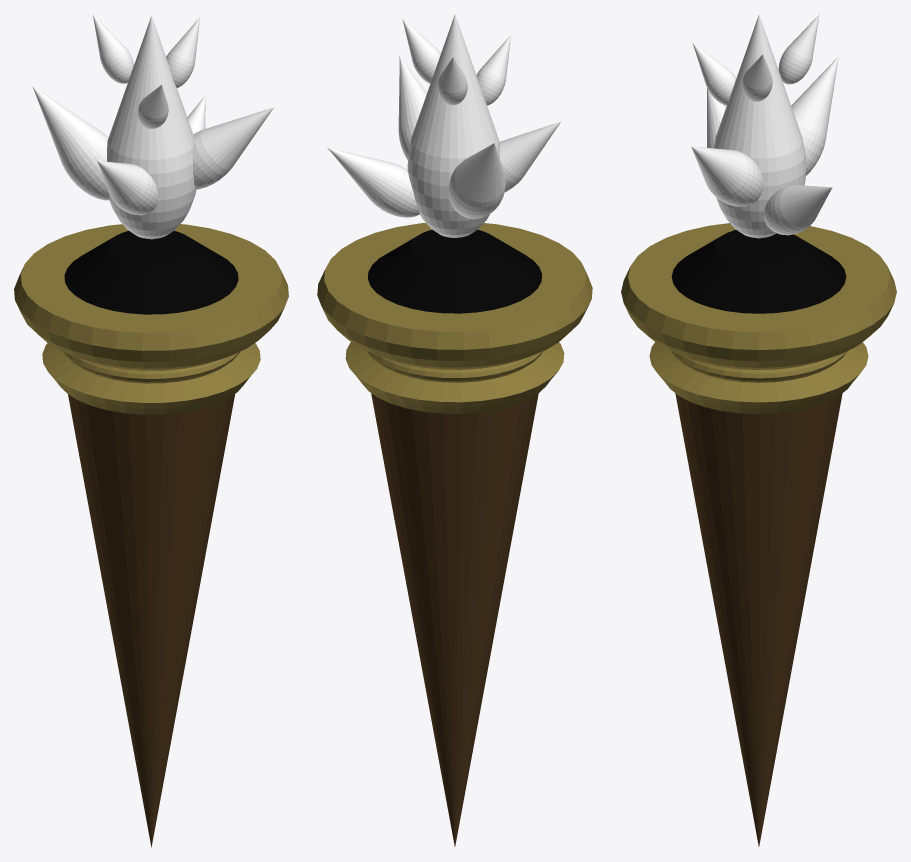
Rendered from Torch.glb.
3 views of the same model, side by side, from view 1: azimuth 30°, elevation 25°; view 2: azimuth 150°, elevation 25°; view 3: azimuth 270°, elevation 25° (orthographic).
Visible parts, largest first — view 1: Torch; view 2: Torch; view 3: Torch.
Part boxes in pixels (bbox=[...]): Torch: bbox=[14, 14, 288, 847]; Torch: bbox=[317, 14, 592, 846]; Torch: bbox=[621, 14, 896, 846].
Bounding box in the file's own units: 0.7969 × 2.66 × 0.7969.
